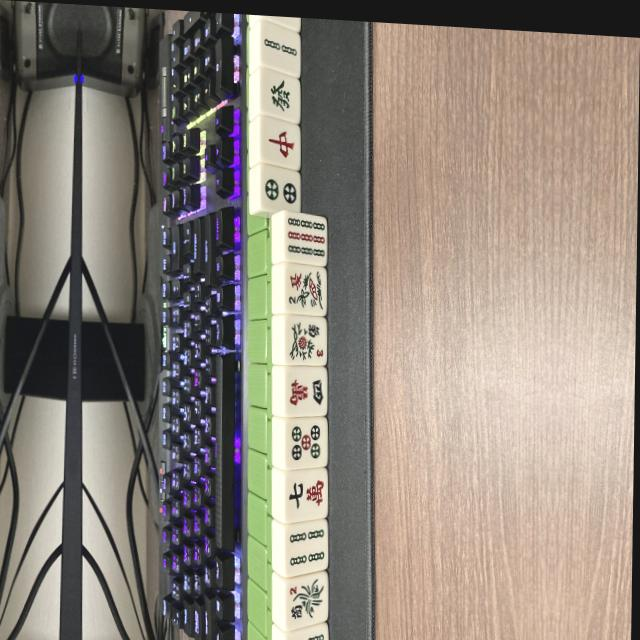f2: (285, 575, 328, 631)
f3: (287, 316, 328, 368)
fa: (261, 70, 300, 124)
ff2: (287, 265, 327, 318)
m4: (285, 369, 327, 417)
m7: (286, 470, 329, 521)
s2: (260, 22, 301, 78)
s3: (287, 626, 329, 640)
s4: (286, 522, 329, 578)
s9: (286, 214, 329, 266)
t2: (261, 167, 300, 214)
t5: (287, 416, 329, 471)
zhong: (261, 117, 301, 169)
